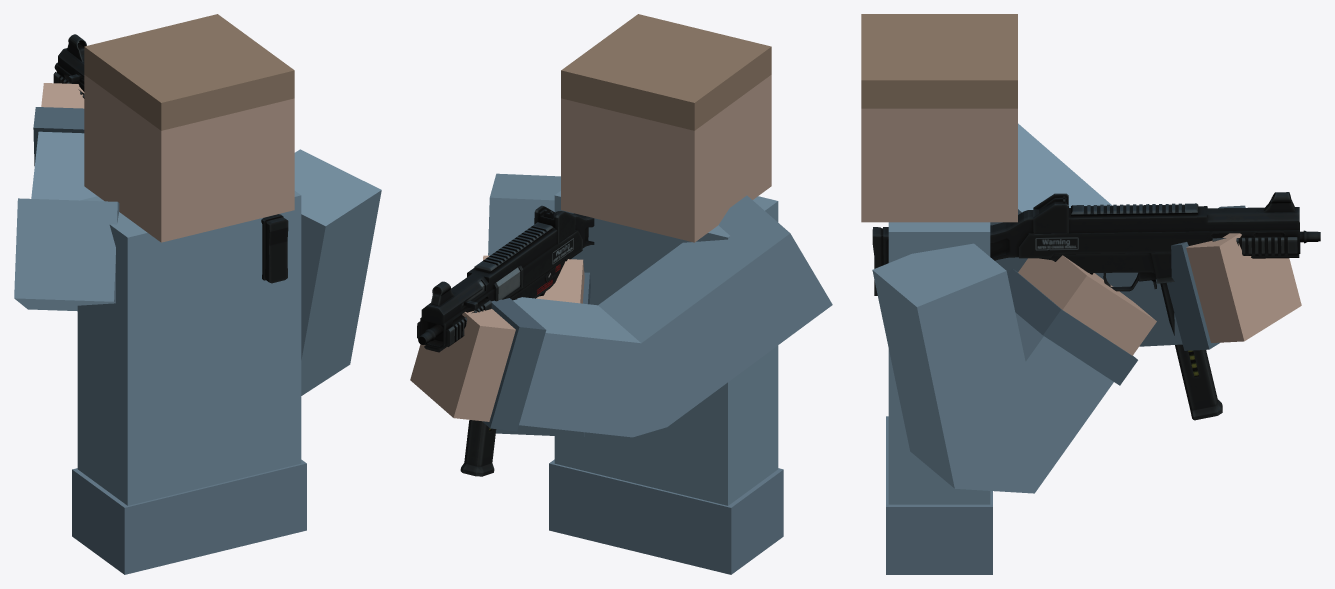
Rendered from Submachine Gun.gltf.
3 views of the same model, side by side, from view 1: azimuth 30°, elevation 25°; view 2: azimuth 150°, elevation 25°; view 3: azimuth 270°, elevation 25° (orthographic).
Bounding box in the file's own units: 5.28 × 6.8 × 5.87.
2 materials, 1 textured.
